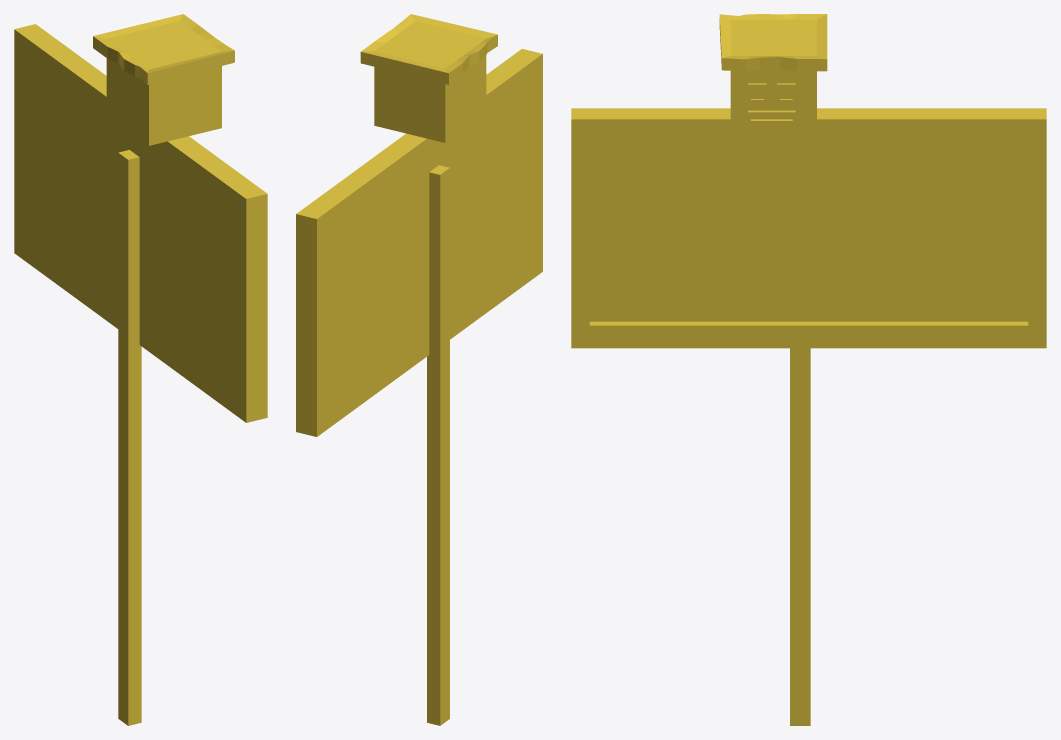
Rendered from LetreroChekPoint.fbx.
3 views of the same model, side by side, from view 1: azimuth 30°, elevation 25°; view 2: azimuth 150°, elevation 25°; view 3: azimuth 270°, elevation 25° (orthographic). The views are drawn at different scales.
Parts seen in each view (by area): view 1: Cube.001, Cube; view 2: Cube.001, Cube; view 3: Cube.001, Cube.
Part boxes in pixels (left/top/right/bottom): Cube.001: left=14, top=14, right=267, bottom=422; Cube: left=118, top=150, right=141, bottom=725; Cube.001: left=296, top=14, right=542, bottom=436; Cube: left=427, top=165, right=449, bottom=725; Cube.001: left=571, top=14, right=1046, bottom=348; Cube: left=790, top=348, right=810, bottom=725.
Size of the model in its own units: 46.54 by 335 by 207.
